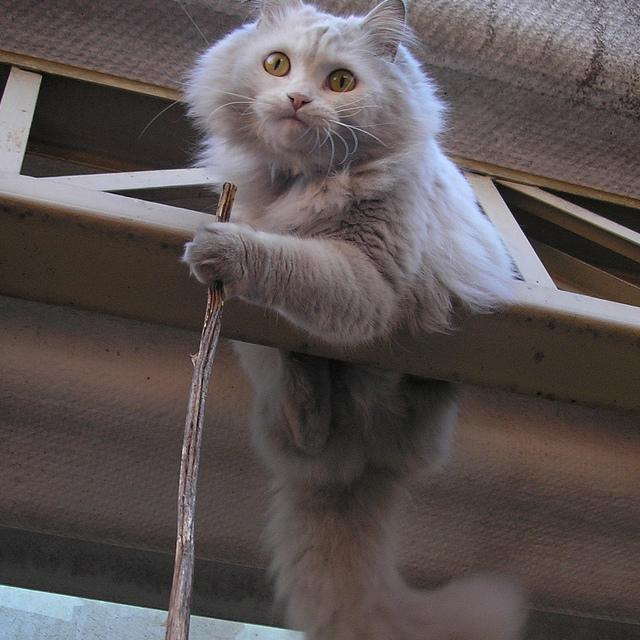animals: (256, 0, 401, 109)
